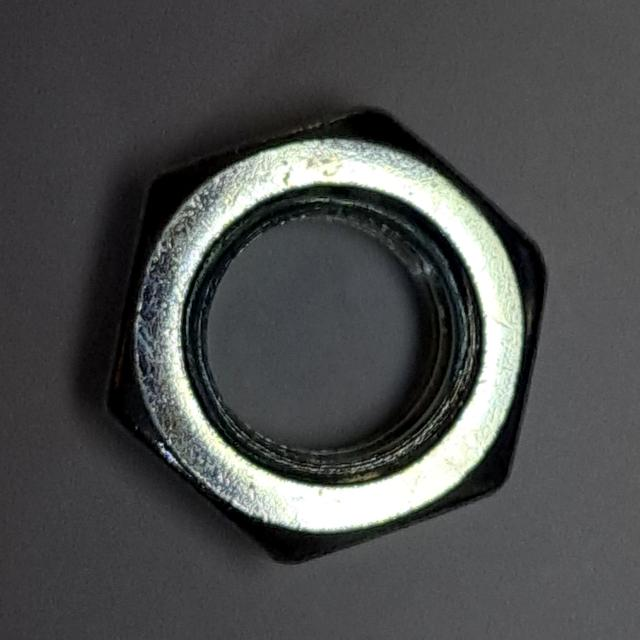Excellent: (89, 92, 561, 575)
